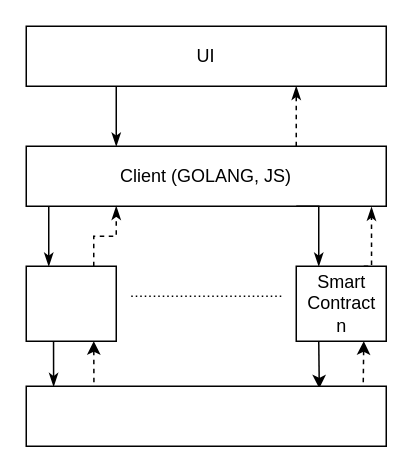
The diagram is 413 pixels wide and 473 high, and some of its shapes have lost their labels. The box of each missing label's shape, as (x1, y1, x2, y2) in pixels:
Blockchain: (25, 385, 386, 446)
Smart Contract 1: (25, 265, 116, 341)
